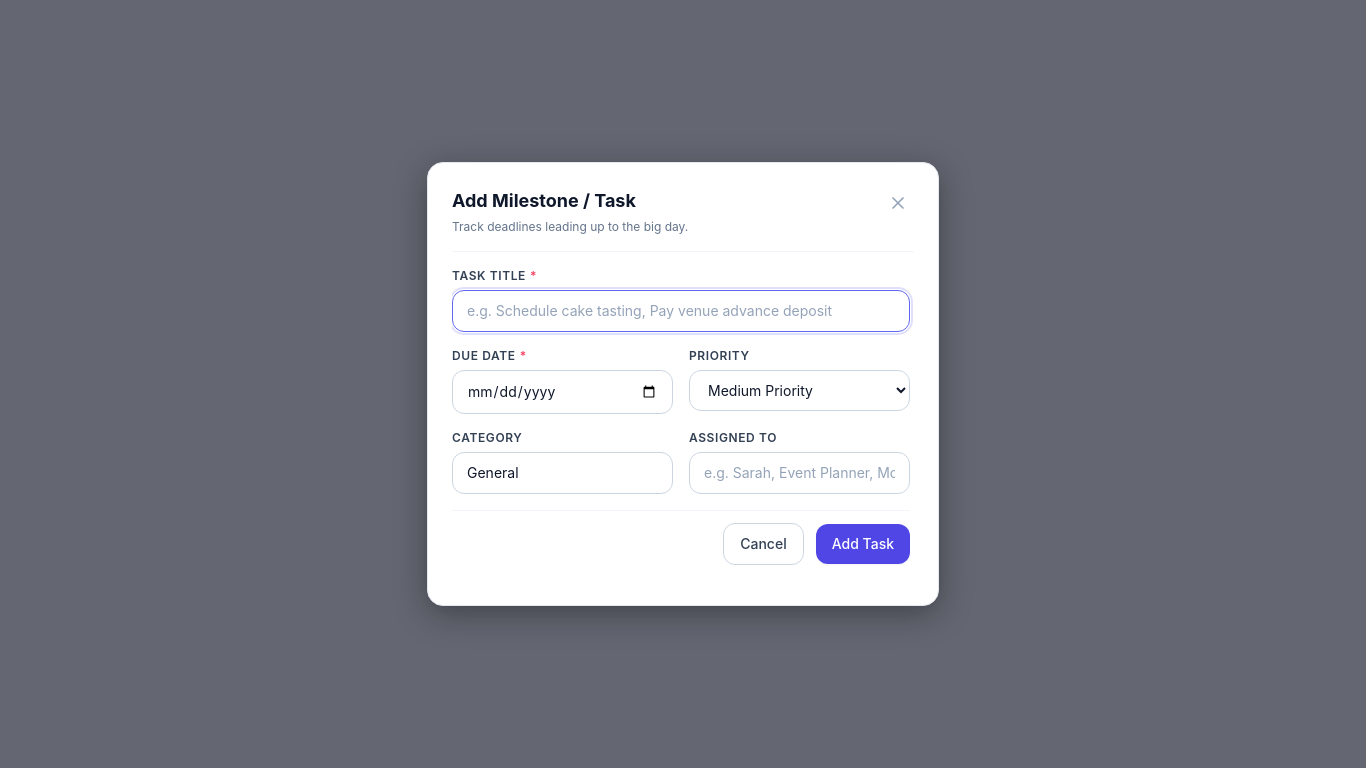
Test case: AddTaskModal component › shows error when due date is missing
Type "Some title" into the field labelled "Task Title*".
click(681, 311); type("Some title")  # box x1=452 y1=290 x2=910 y2=332
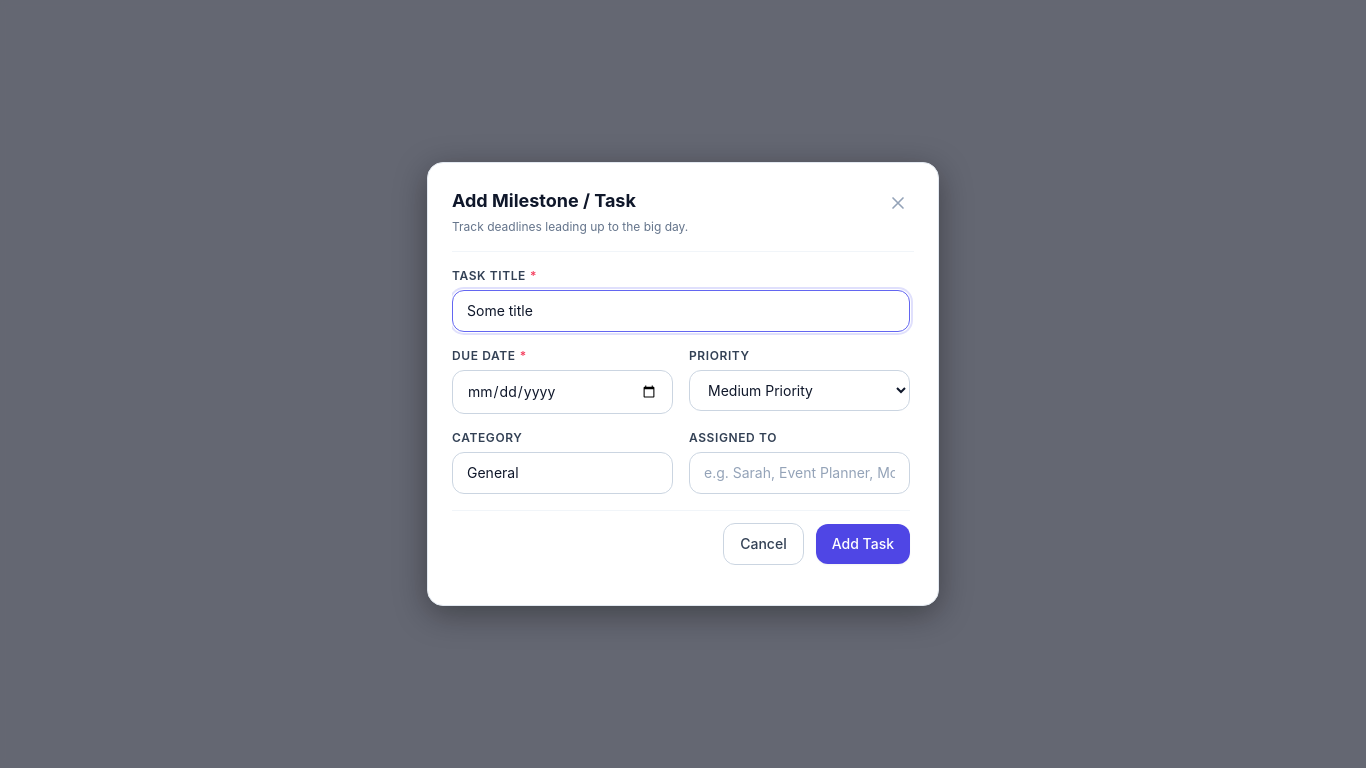
Click the button "Add Task".
click(863, 544)  # box x1=816 y1=524 x2=910 y2=564
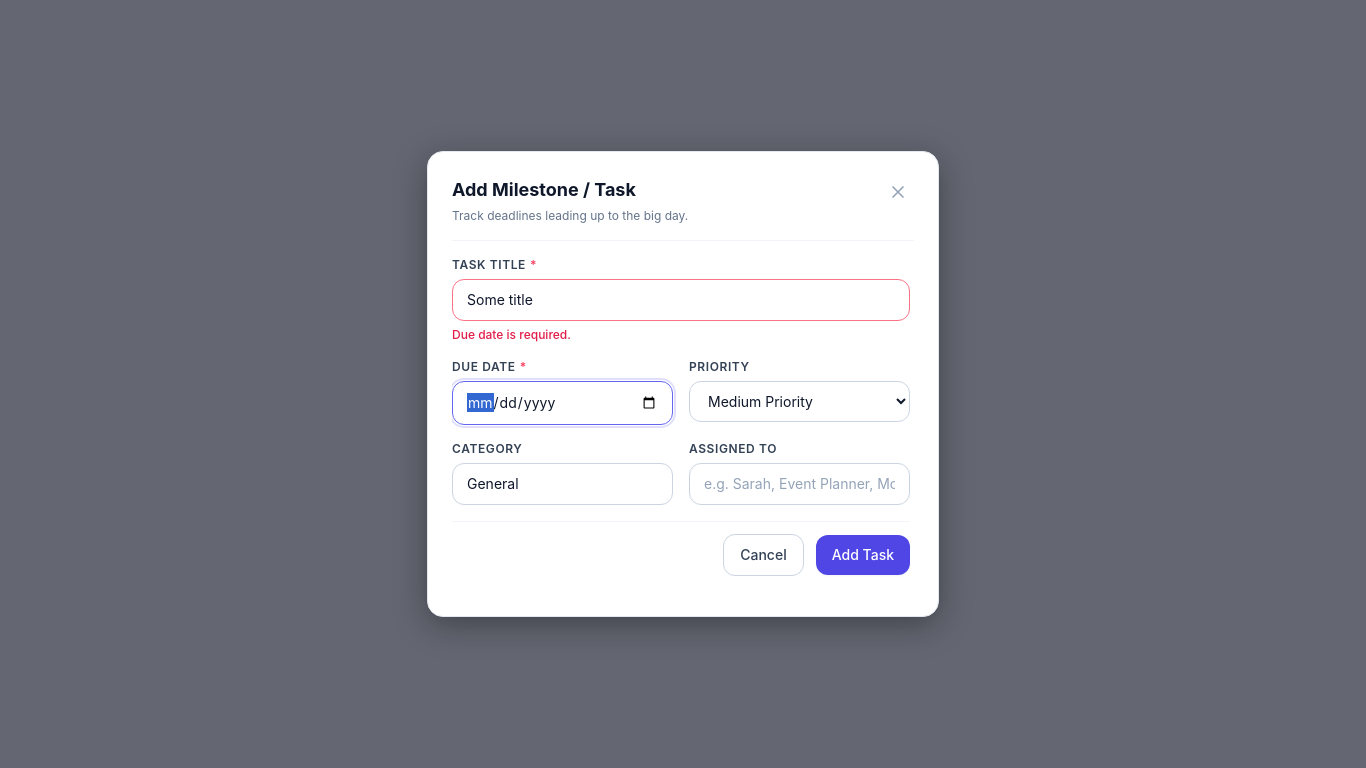
Now the text "Due date is required." is shown, box x1=452 y1=327 x2=571 y2=342
